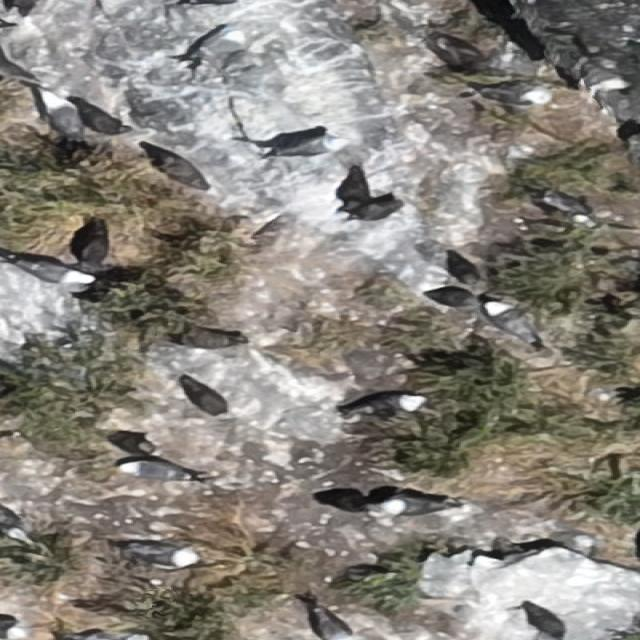umineko: (5, 252, 95, 284), (484, 302, 540, 348), (40, 90, 84, 148), (477, 79, 557, 105), (124, 540, 202, 566), (191, 29, 246, 64), (350, 395, 424, 421), (116, 460, 194, 483), (376, 497, 459, 518), (272, 137, 351, 158), (185, 384, 227, 414), (346, 198, 396, 220), (321, 614, 351, 640)
